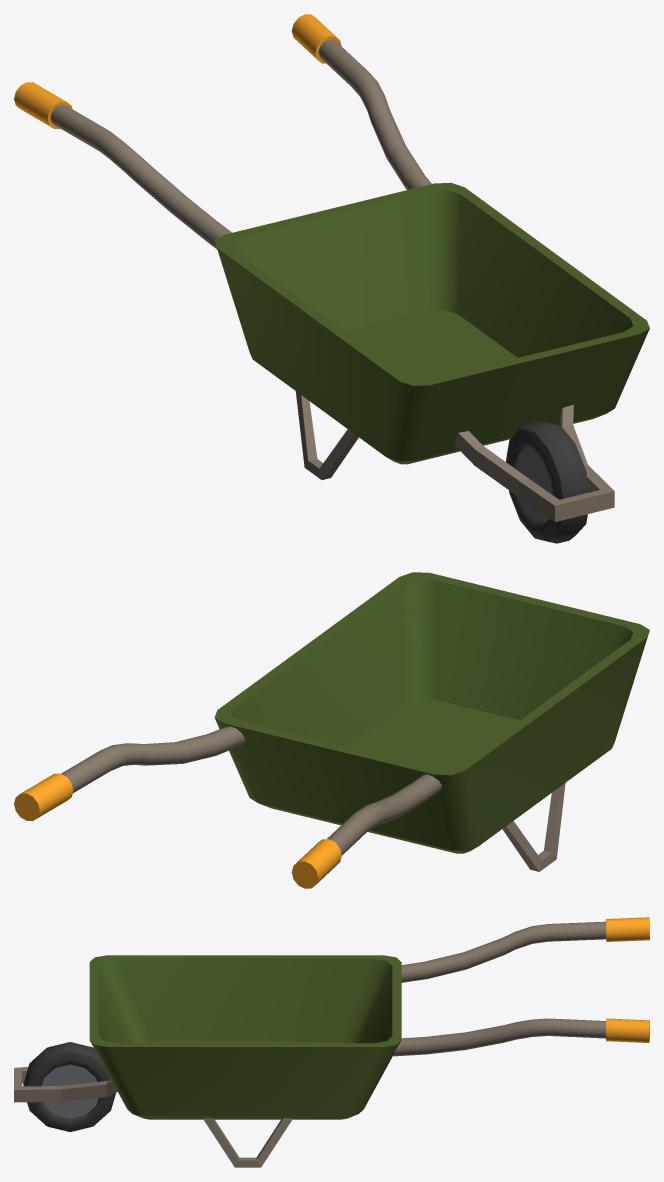
Rendered from GardenCart_5.fbx.
3 views of the same model, one above another, from view 1: azimuth 30°, elevation 25°; view 2: azimuth 150°, elevation 25°; view 3: azimuth 270°, elevation 25° (orthographic). The views are drawn at different scales.
Parts seen in each view (by area): view 1: GardenCart_5; view 2: GardenCart_5; view 3: GardenCart_5.
Part boxes in pixels (bbox=[...]): GardenCart_5: bbox=[14, 14, 649, 543]; GardenCart_5: bbox=[14, 572, 649, 888]; GardenCart_5: bbox=[14, 917, 649, 1167].
Bounding box in the file's own units: 92.79 × 61.41 × 221.
